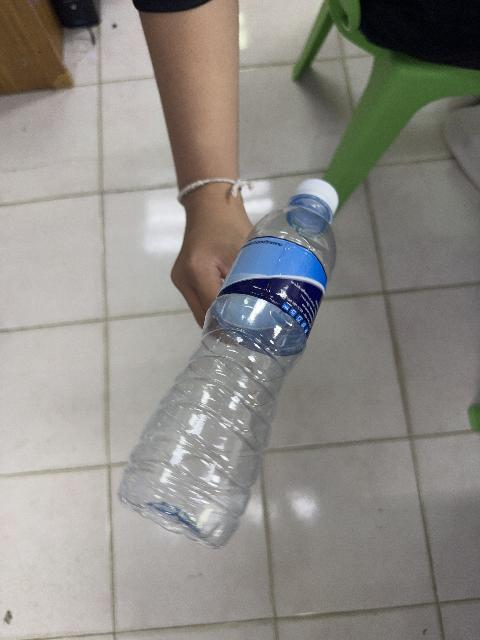bottle: (119, 180, 338, 547)
